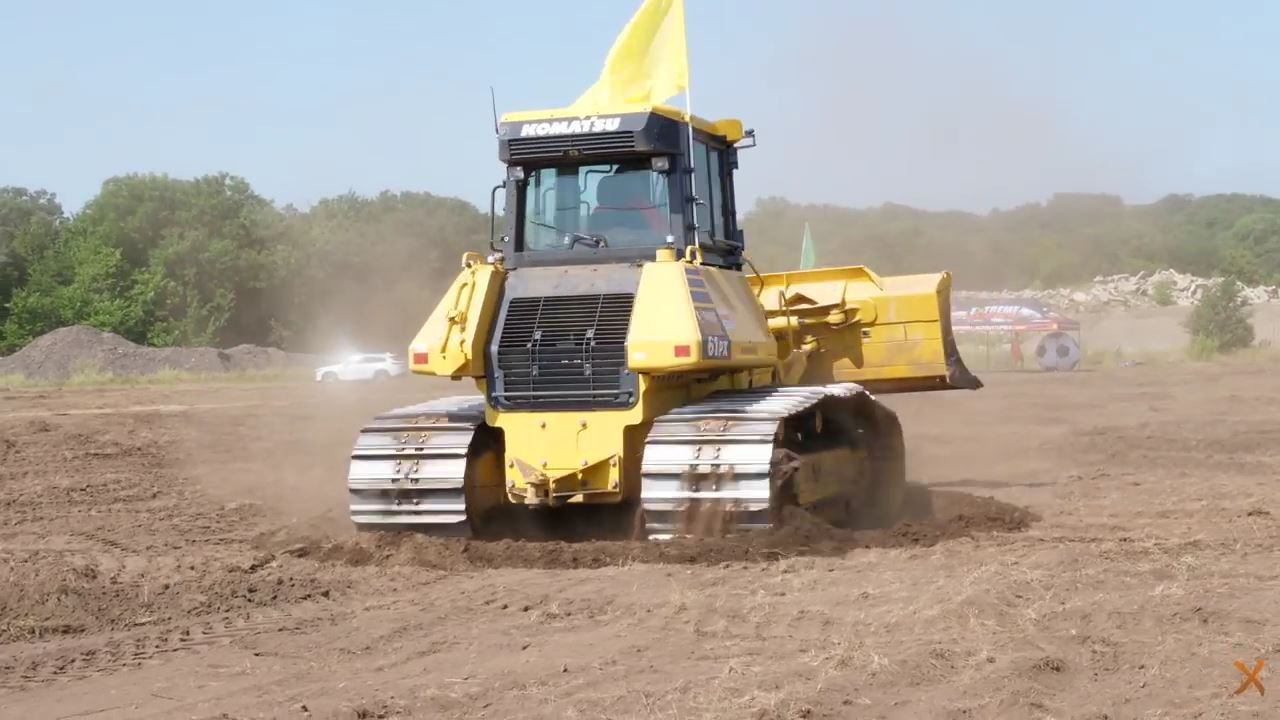con_eq: (345, 82, 983, 552)
